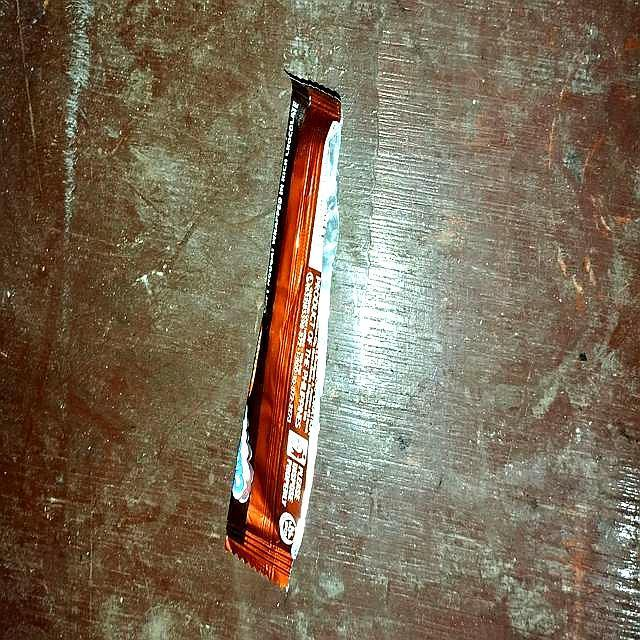Non-biodegradable: (222, 69, 345, 592)
